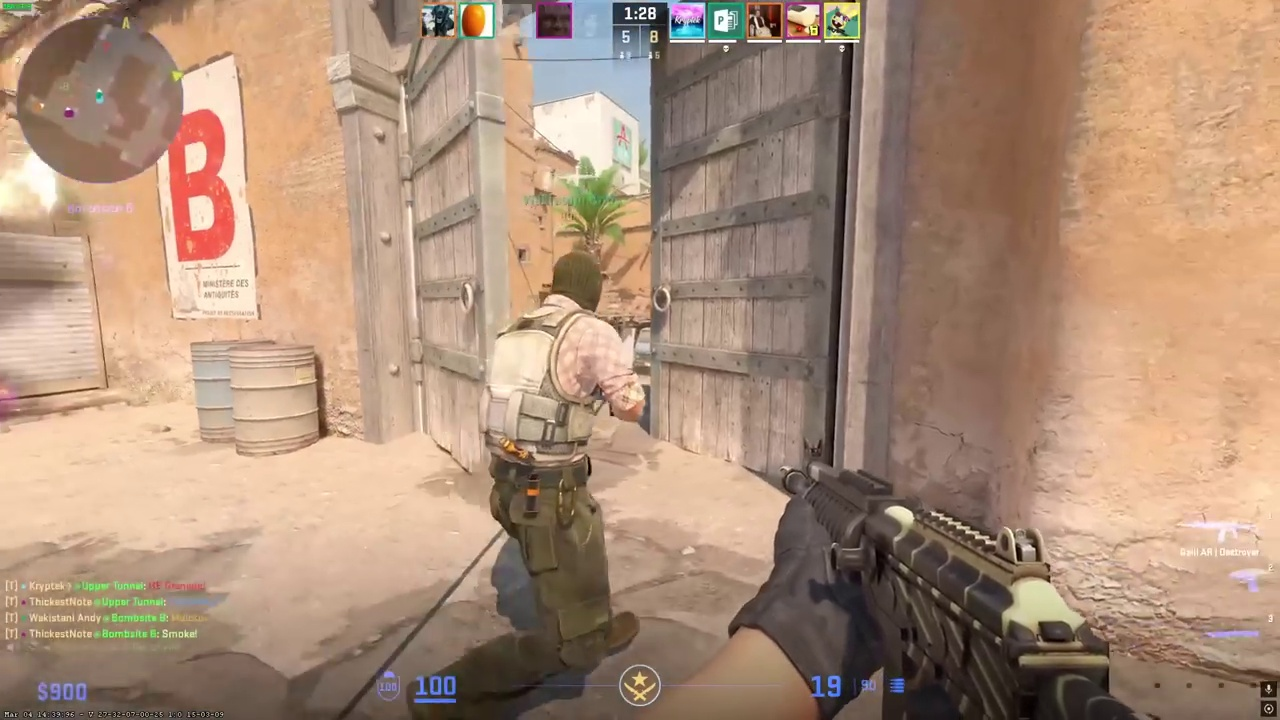Terrorist: (471, 250, 637, 697)
